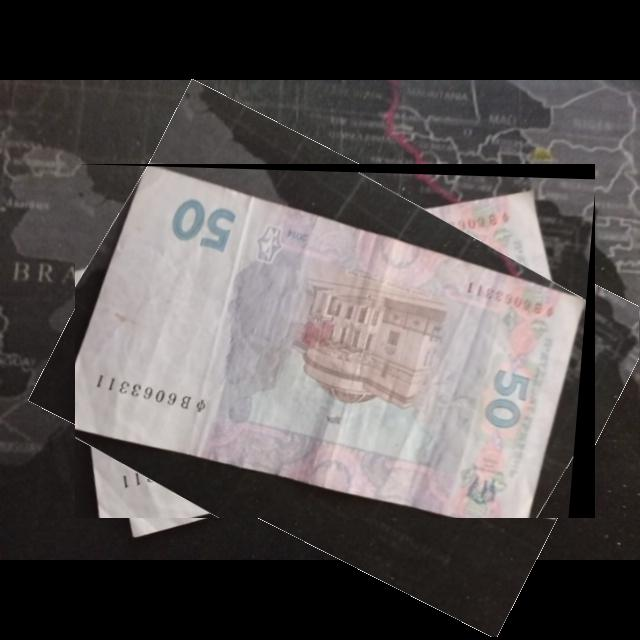50uah: (75, 166, 589, 519)
